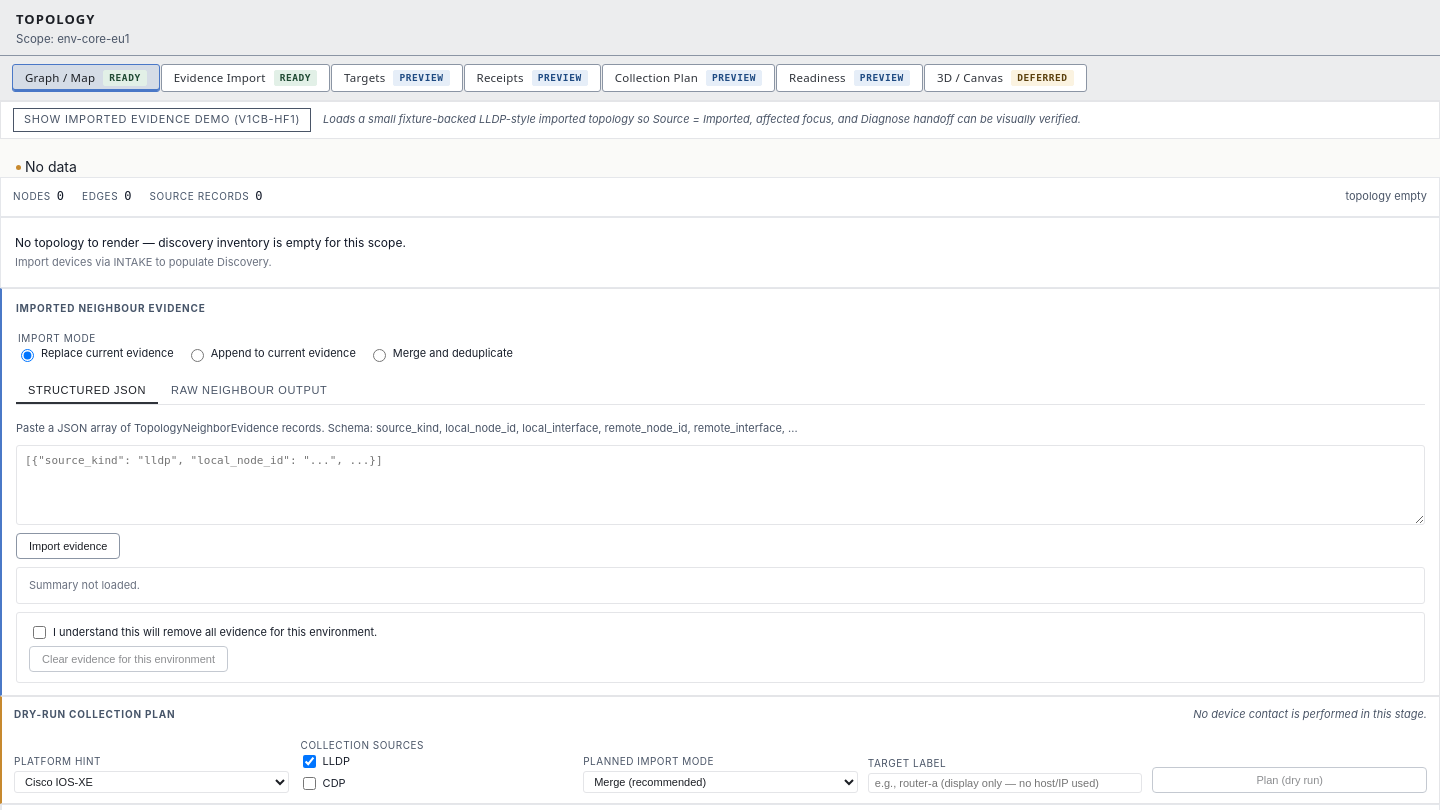
TopologyMode — workbench (V1BI) › switching to Collection Plan shows dry-run controls
Click the tab with test id "mwb-tool-collection_plan". click: (688, 78)
box: 602,64 -> 775,92
(page scrolled)
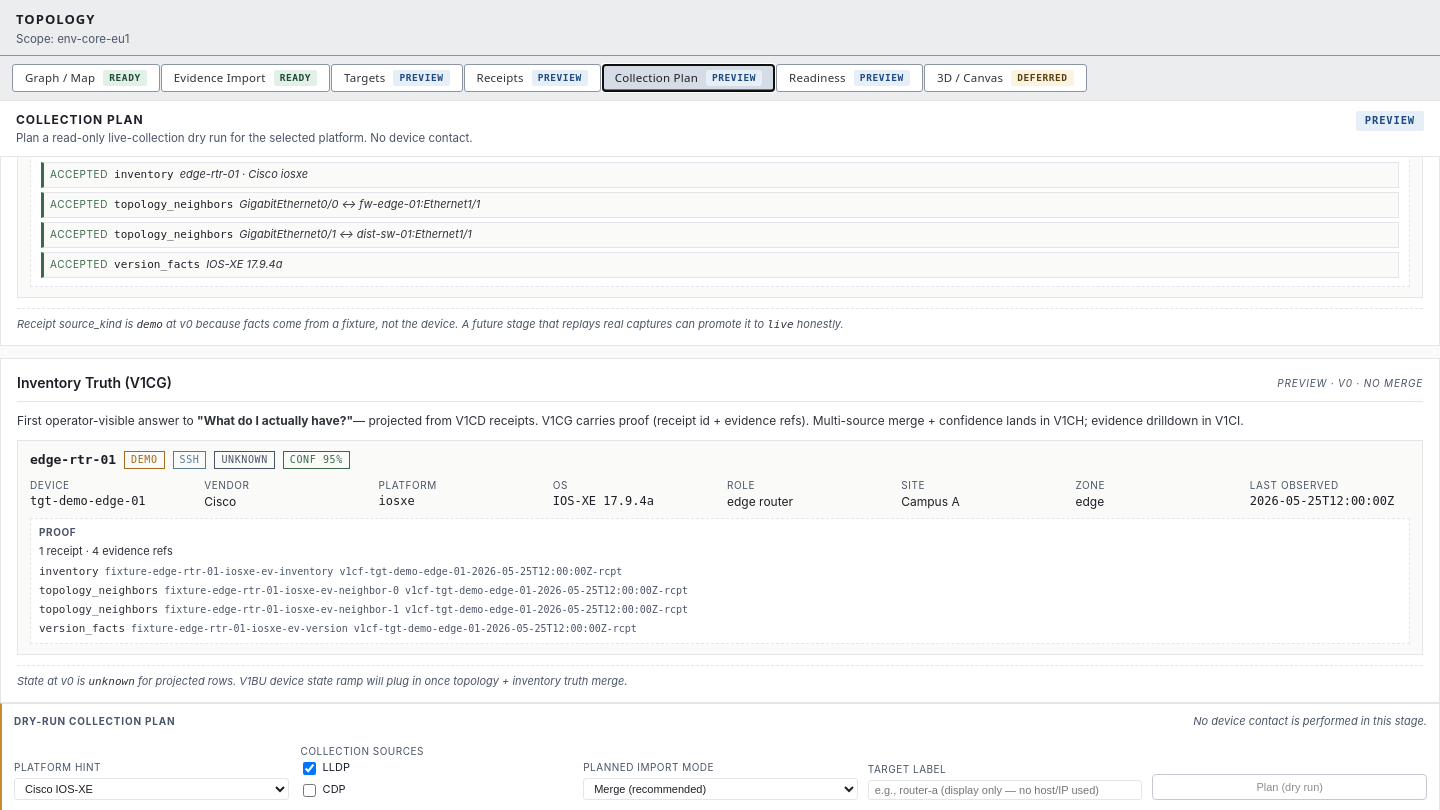
Expected: the button with test id "tm-live-collection-plan-button" is shown, 1152,774 -> 1427,800
Expected: the element with test id "tm-summary" is gone
